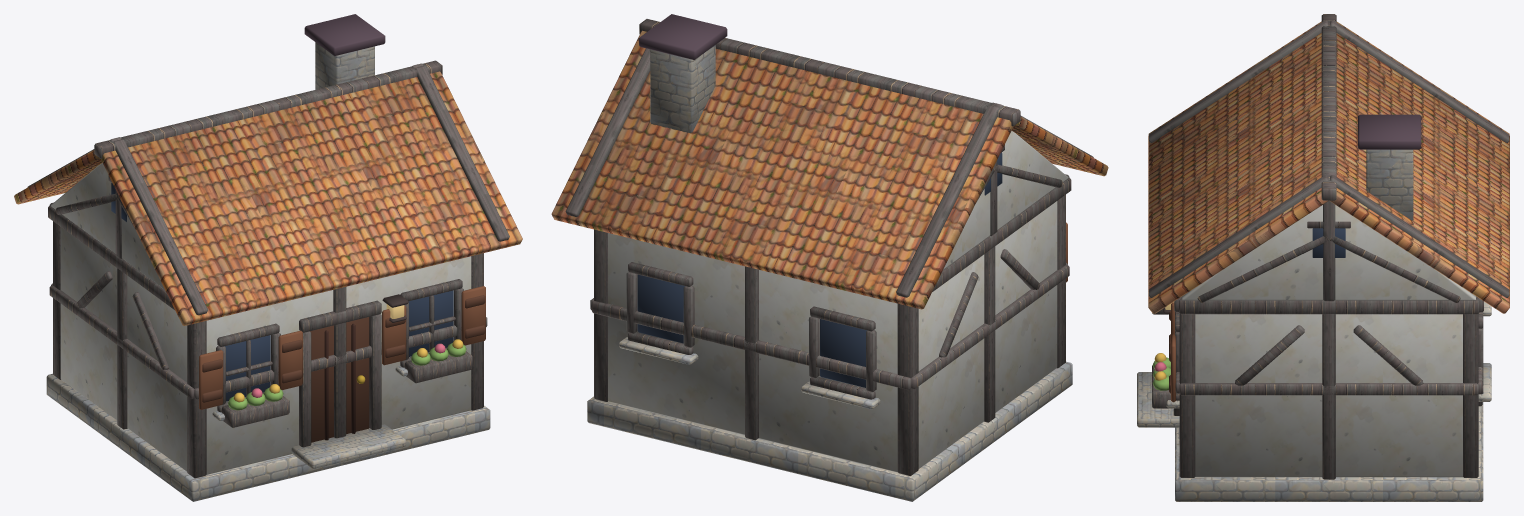
Rendered from house_a.gltf.
3 views of the same model, side by side, from view 1: azimuth 30°, elevation 25°; view 2: azimuth 150°, elevation 25°; view 3: azimuth 270°, elevation 25° (orthographic). The views are drawn at different scales.
Parts seen in each view (by area): view 1: house_a; view 2: house_a; view 3: house_a.
Boxes of the visible parts, left/top/right/bottom form: house_a: left=14, top=14, right=522, bottom=501; house_a: left=551, top=14, right=1108, bottom=501; house_a: left=1137, top=14, right=1509, bottom=501.
Size of the model in its own units: 6.18 by 5.78 by 5.53.
Materials: 6 (6 with a texture image).
